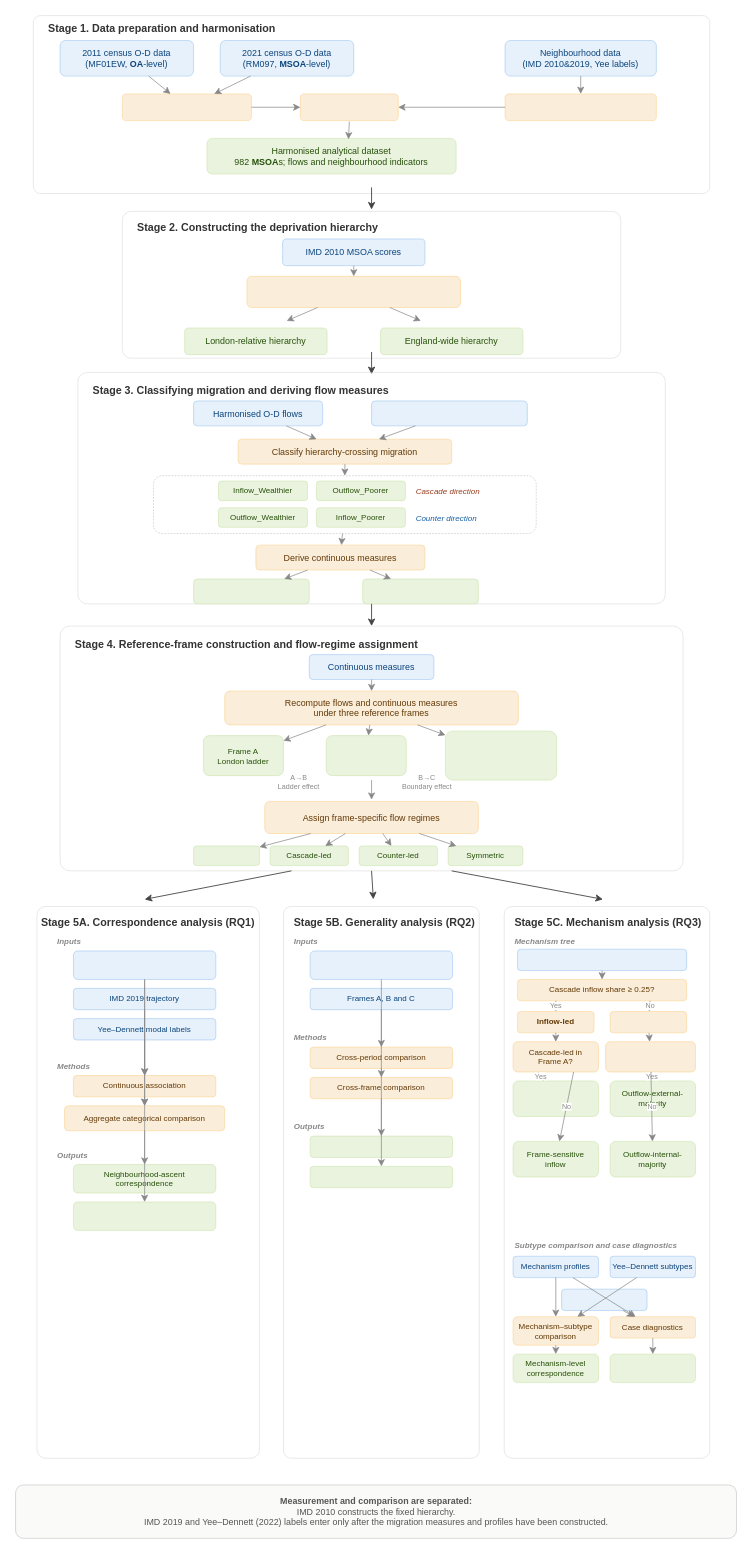
This 752x1554 diagram has some shape labels left out. Here are the shapes that lost their labels. From the top down, the centre of each, then its label:
At (x=186, y=106): "Spatial harmonisation".
At (x=349, y=106): "Flow filtering".
At (x=580, y=106): "Neighbourhood aggregation MSOA <--- LSOA".
At (x=353, y=291): "Construct fixed deprivation deciles (2010 positions held constant)".
At (x=449, y=413): "Fixed deprivation hierarchies".
At (x=251, y=591): "Cascade dominance".
At (x=420, y=591): "Cross-decile share".
At (x=366, y=755): "Frame B National ladder".
At (x=501, y=755): "Frame C National ladder + boundary-crossing flows".
At (x=226, y=855): "Lateral".
At (x=144, y=964): "Continuous measures and flow regimes".
At (x=381, y=964): "2011 and 2021 measures and regimes".
At (x=601, y=959): "Frame C “Cascade-led” MSOAs".
At (x=647, y=1022): "Outflow-dominated".
At (x=650, y=1056): "External-arm share ≥ 0.50?".
At (x=555, y=1098): "Inflow-driven, frame-robust".
At (x=381, y=1146): "Temporal generality".
At (x=381, y=1177): "Reference-frame sensitivity".
At (x=144, y=1215): "Aggregate classification correspondence".
At (x=604, y=1299): "Selected MSOAs".
At (x=652, y=1368): "Case-level flow structures".
